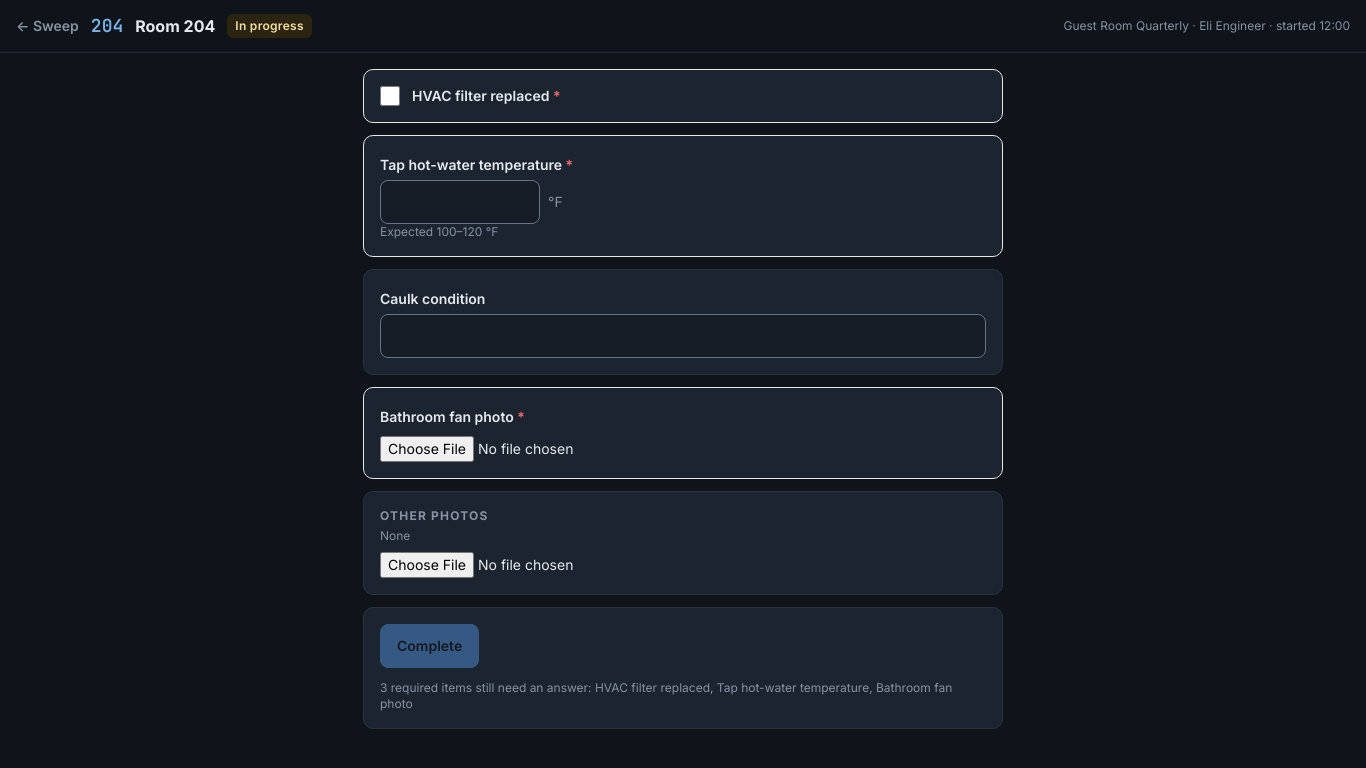
RunPage › saves a number on blur and shows the out-of-range warning the server returns
In the number field labelled "Tap hot-water temperature *": (460, 202) [380,180,540,224], type "122"
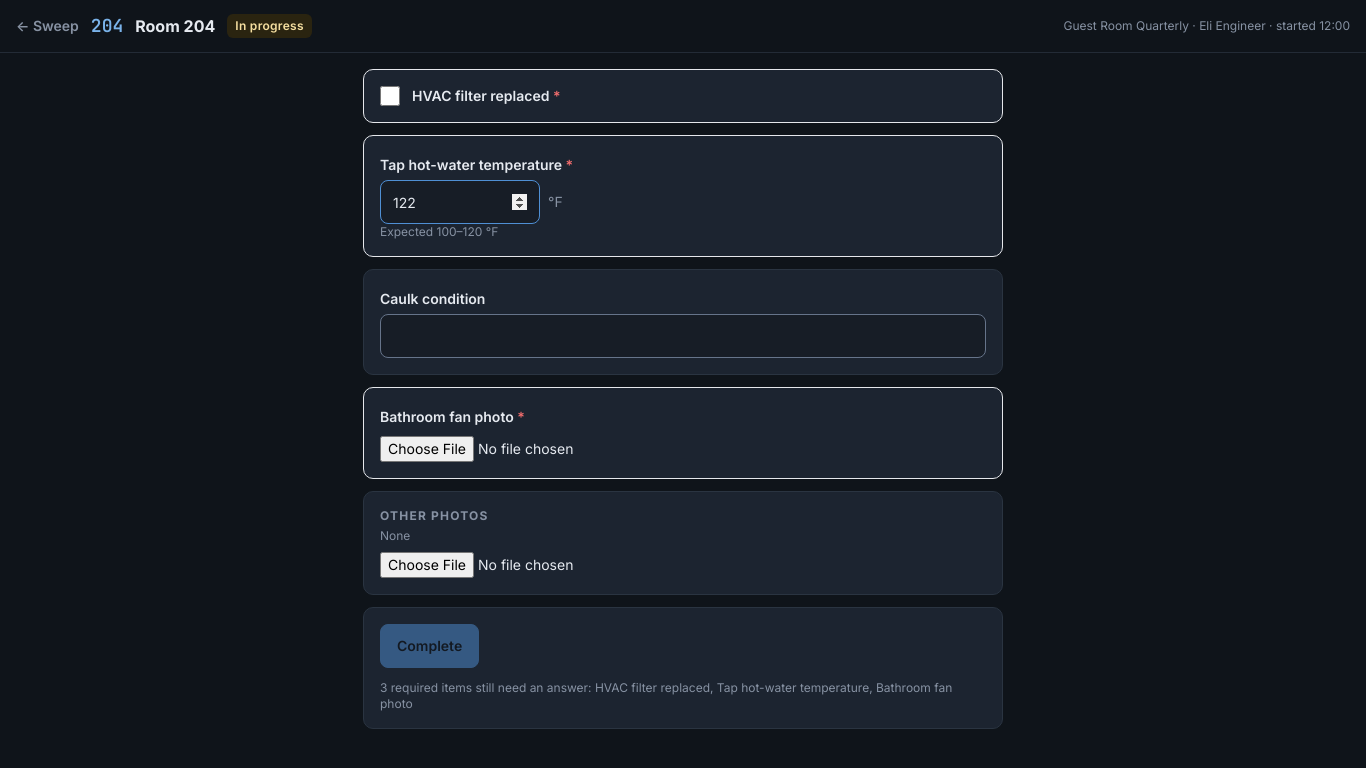
Press Tab
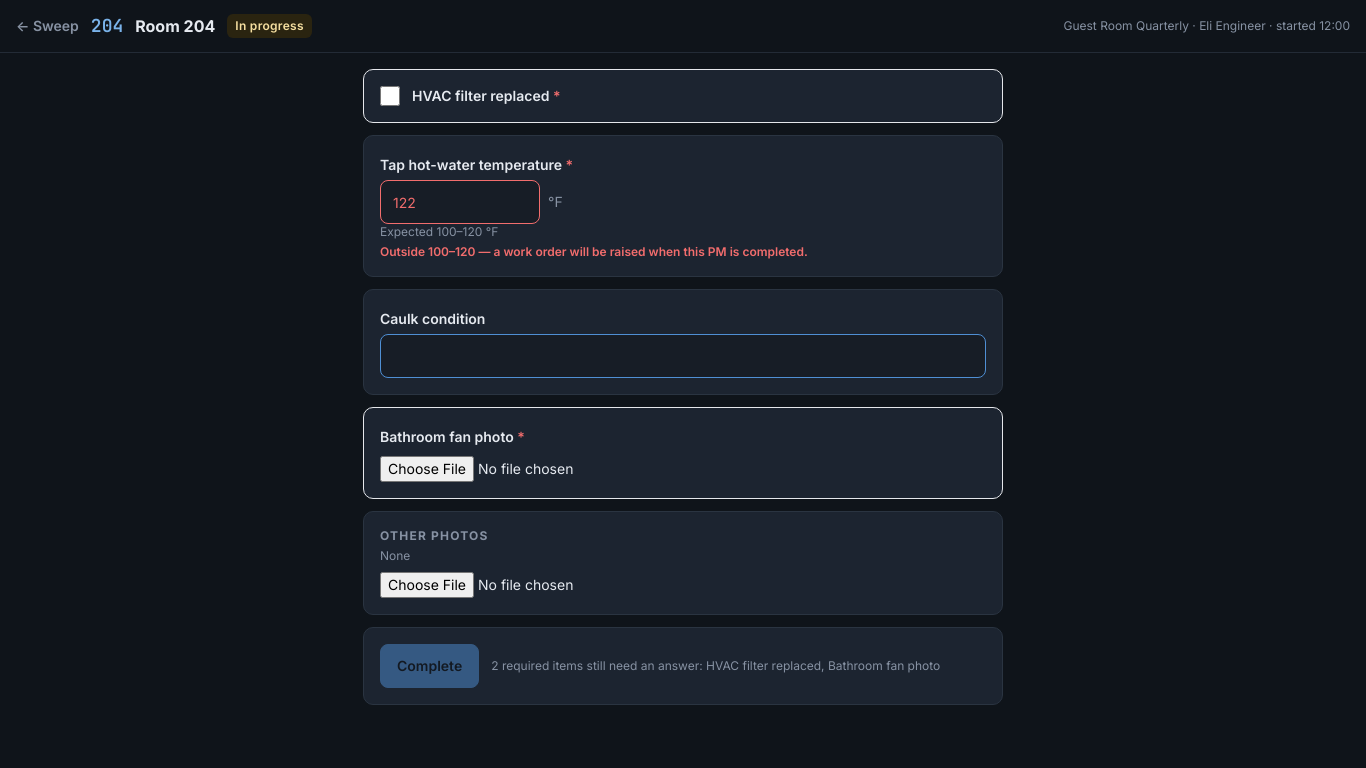
Now the text "Outside 100–120 — a work order will be raised when this PM is completed." is shown, box [380,244,808,259]
Now the text "2 required items still need an answer" is shown, box [491,658,940,674]
